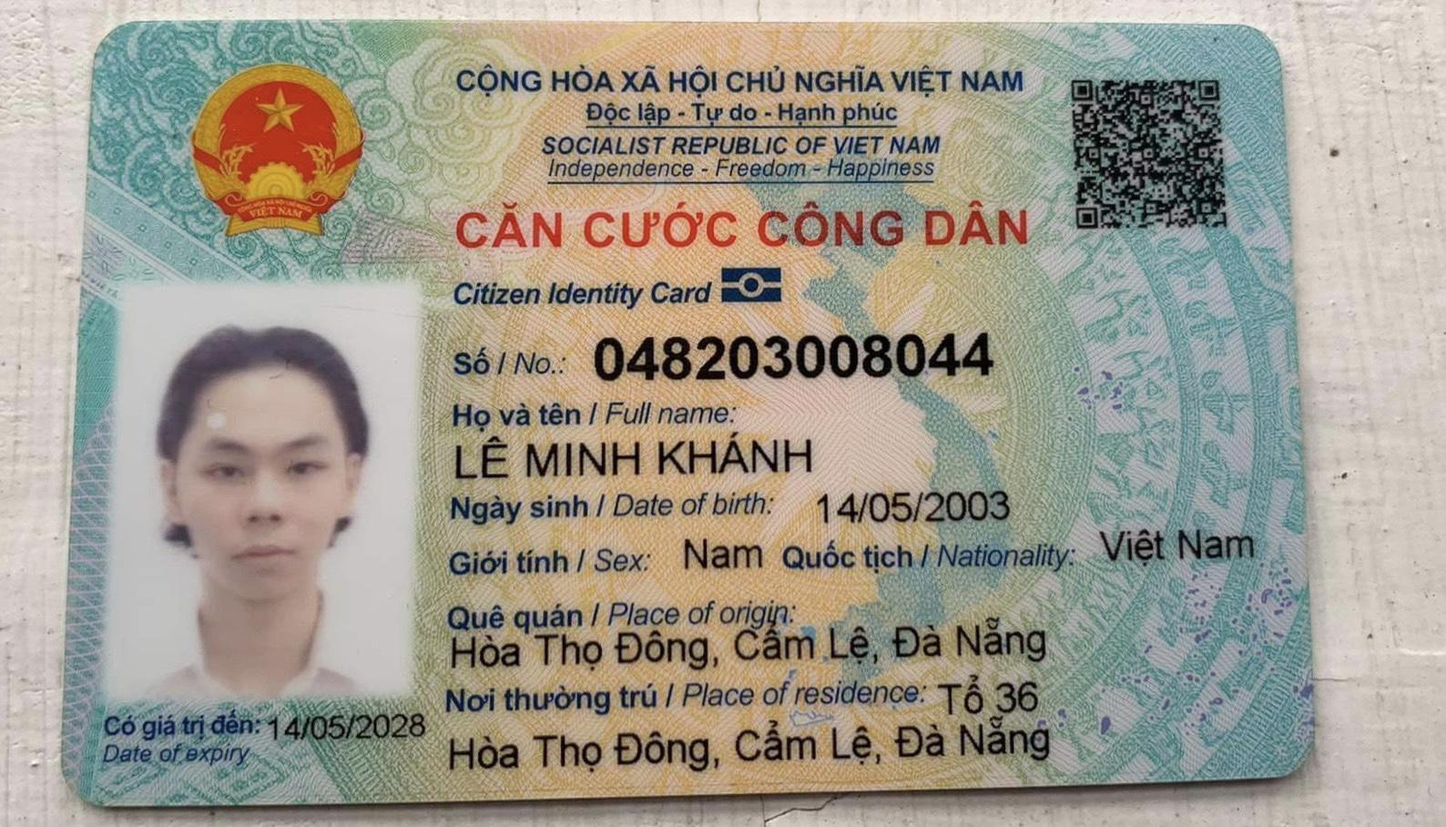ID: (570, 319, 1009, 388)
birth: (799, 479, 1033, 538)
name: (443, 427, 867, 485)
place: (444, 612, 1062, 678)
residence: (426, 710, 1128, 776), (932, 667, 1060, 720)
